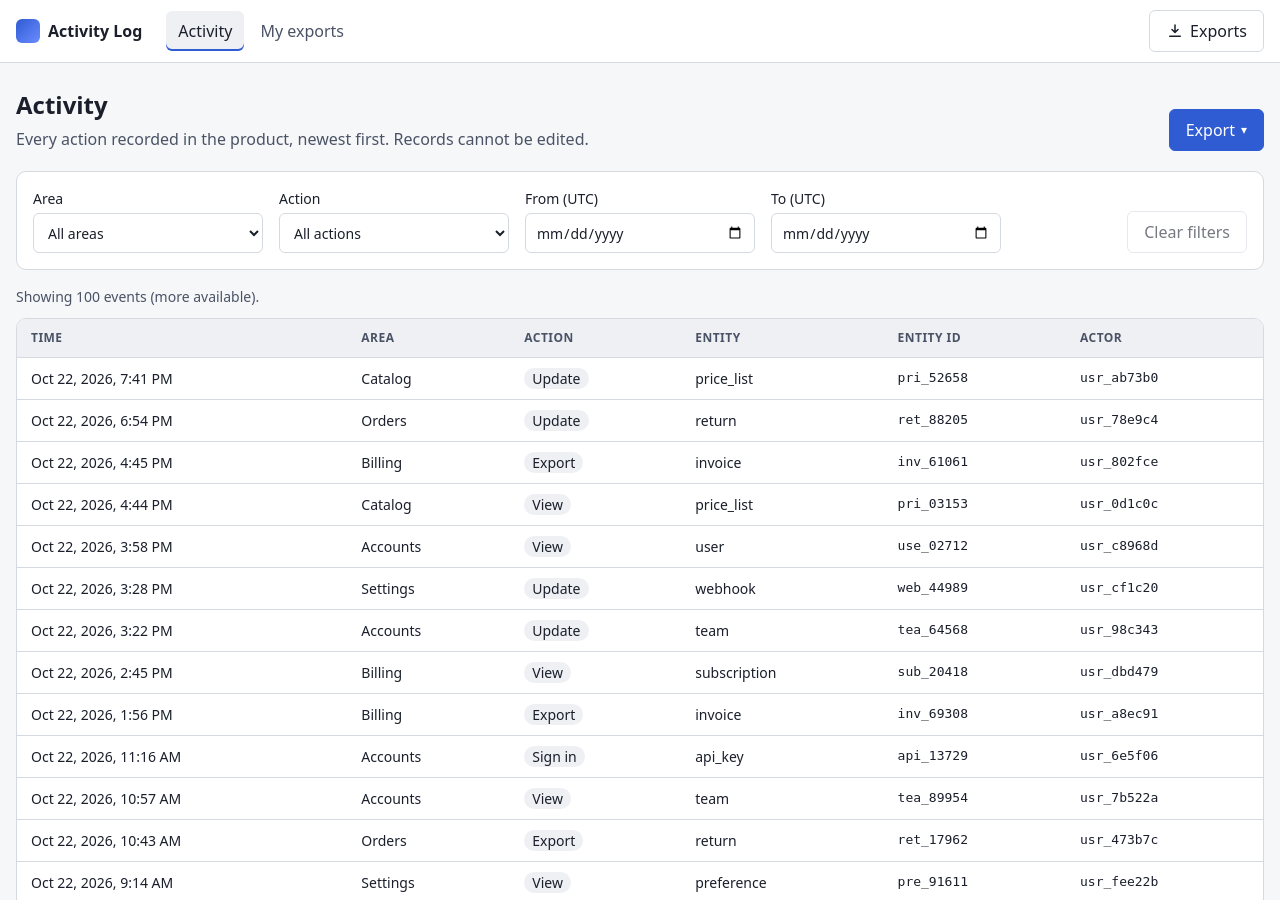
Test: background export polling › starts polling after a new export is queued
Check: the text "Showing 100 events (more available)." is shown, box [16,287,259,306]
Click the button "Export ▾" at (1216, 130), box [1169,109,1264,151]
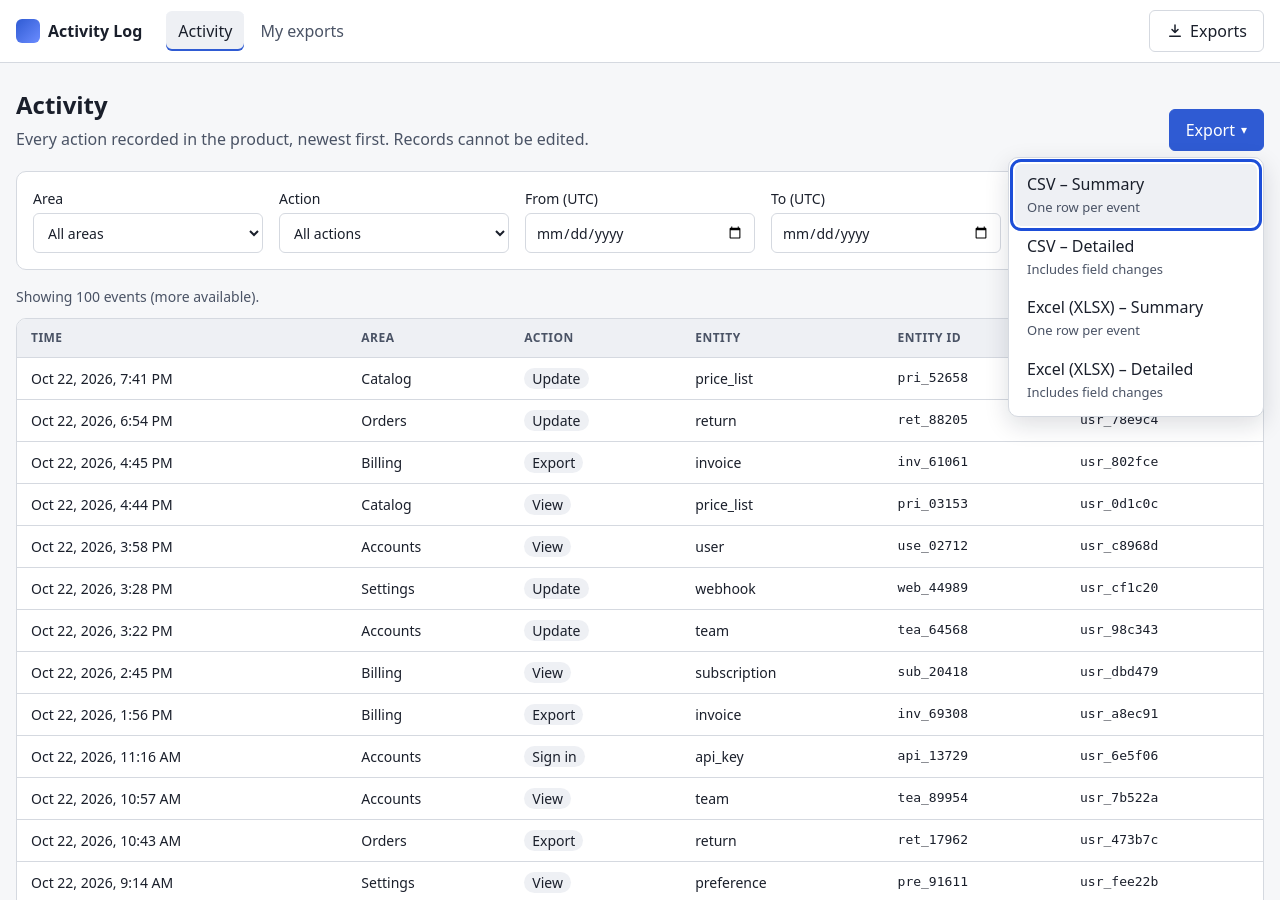
Click the menu item "CSV – Summary One row per event" at (1136, 195), box [1015,164,1257,226]
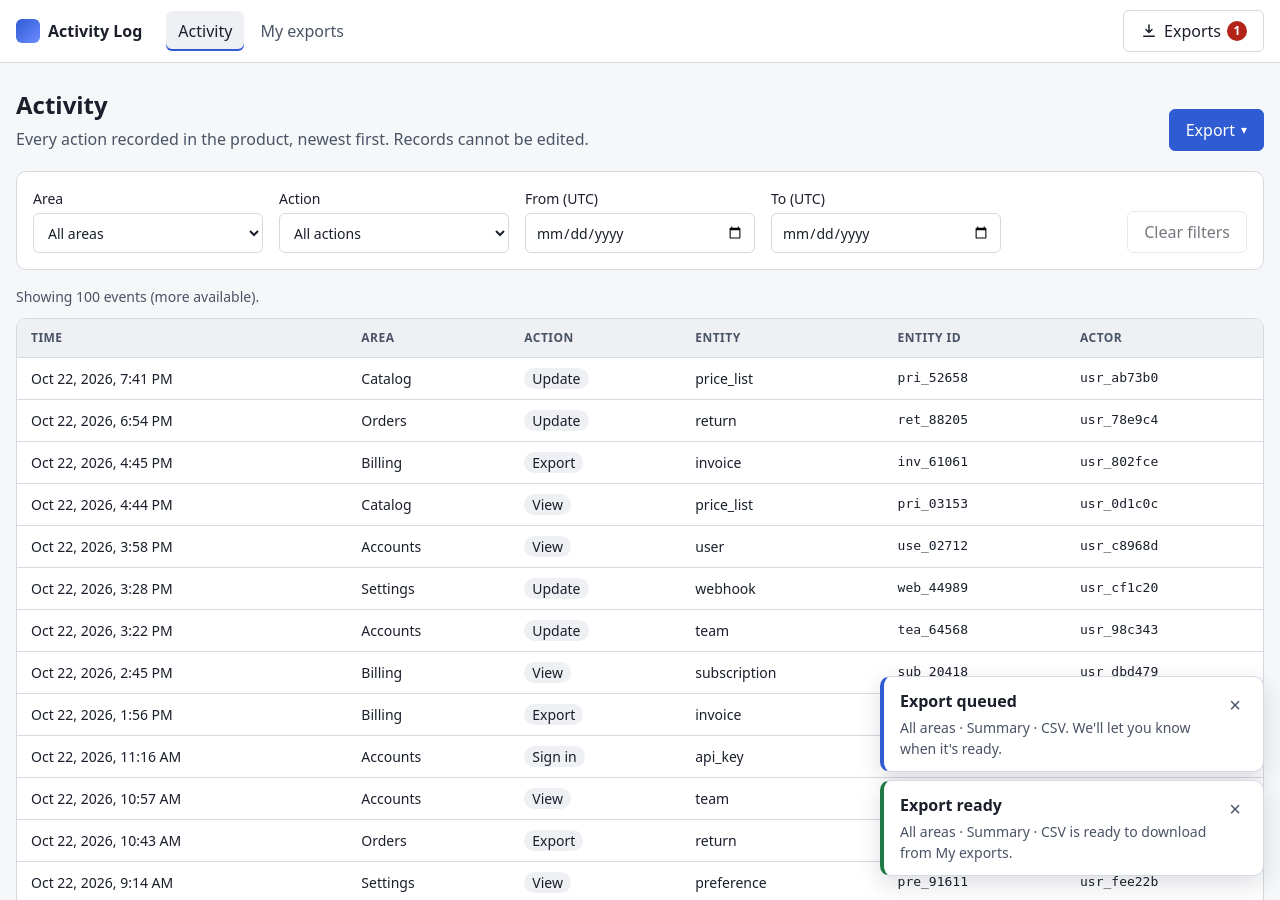
Check: the text "Export queued" is shown, box [900,690,1017,712]
Check: the text "Export ready" is shown, box [900,794,1002,816]
